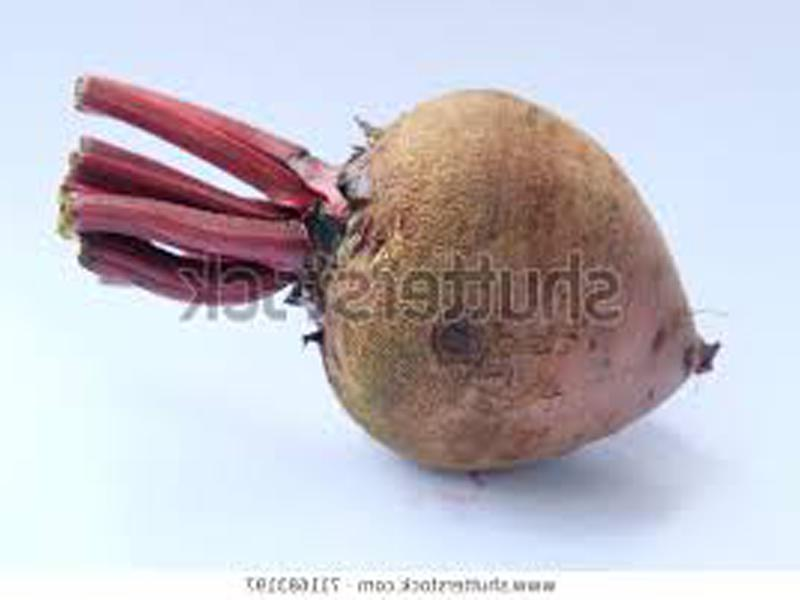Beet: (71, 83, 709, 469)
